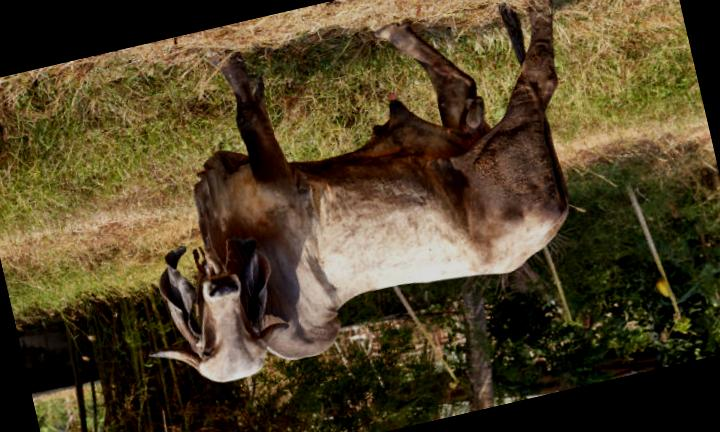Brahman: (152, 4, 570, 381)
